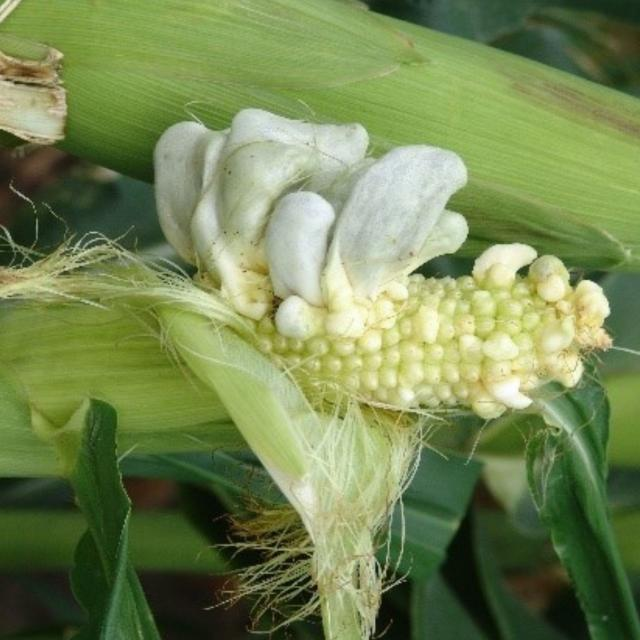Leaf_Scald: (93, 79, 630, 504)
